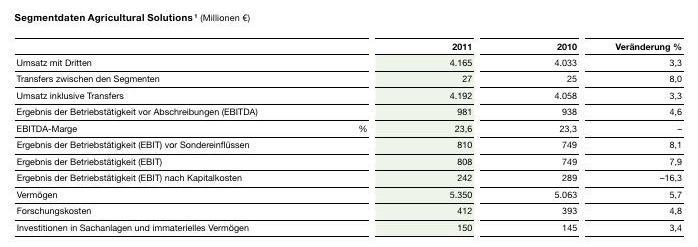table: (0, 0, 698, 247)
